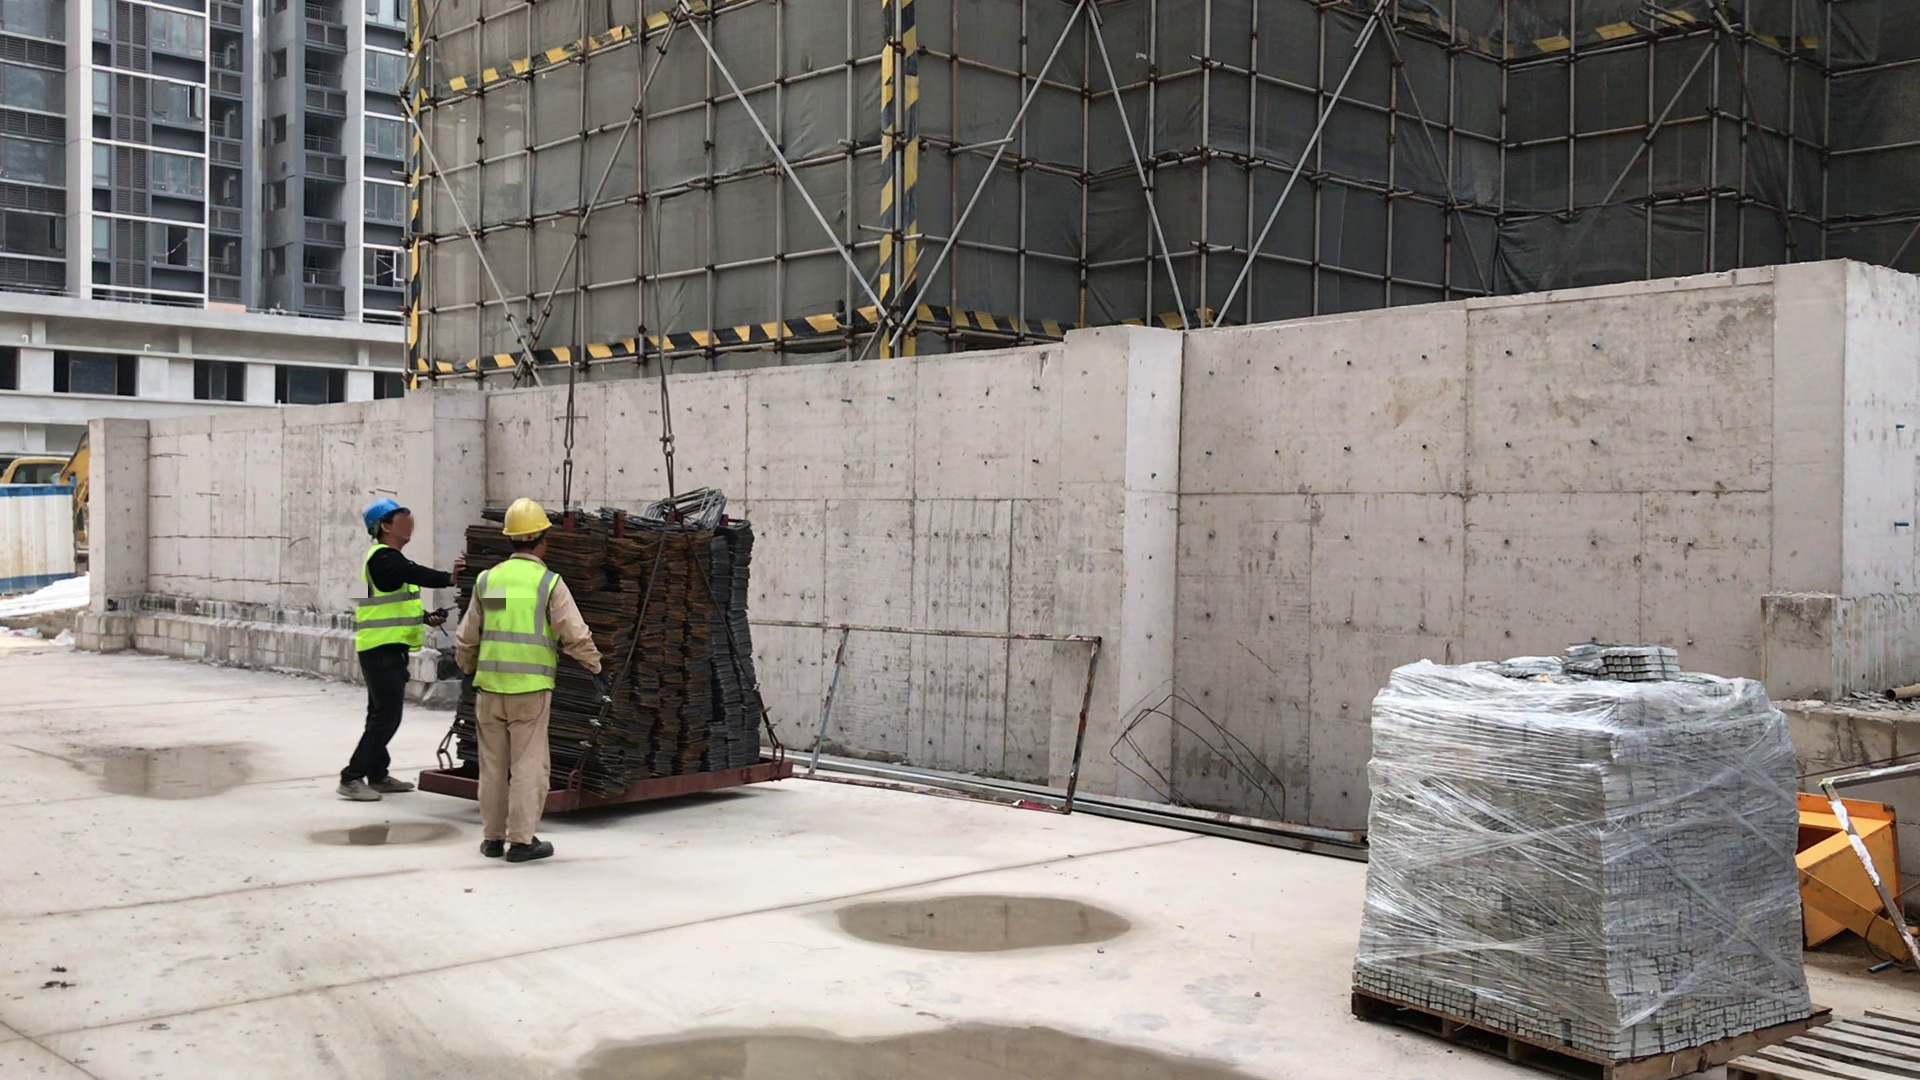helmet: (494, 496, 556, 539), (355, 496, 415, 529)
person: (479, 494, 576, 879), (348, 485, 415, 844)
vest: (477, 563, 563, 691), (349, 555, 426, 655)
